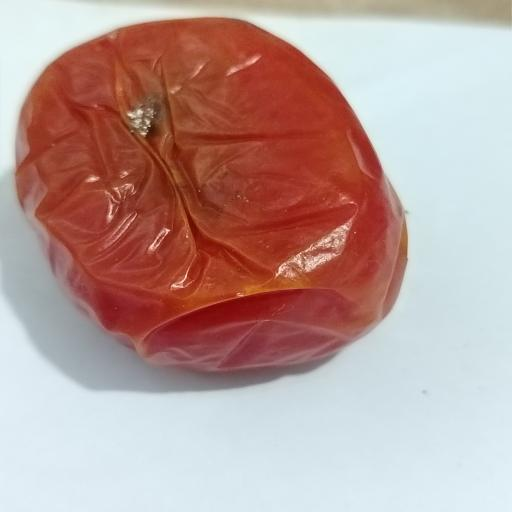spoiled: (16, 18, 407, 371)
